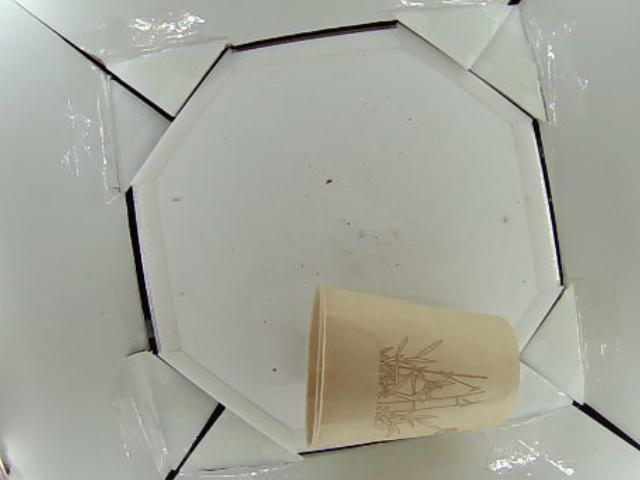Cup: (304, 287, 520, 447)
